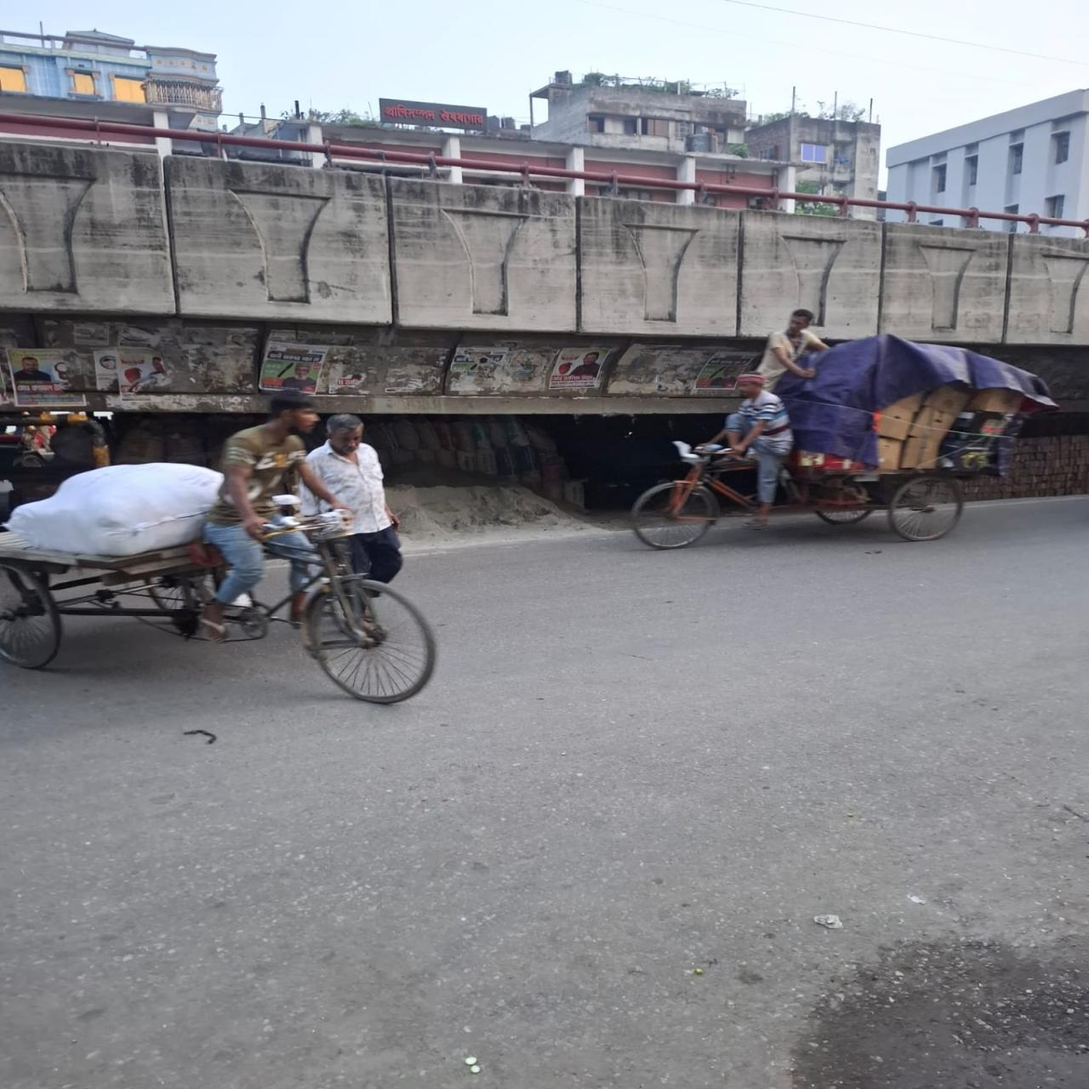person: (295, 410, 402, 592)
